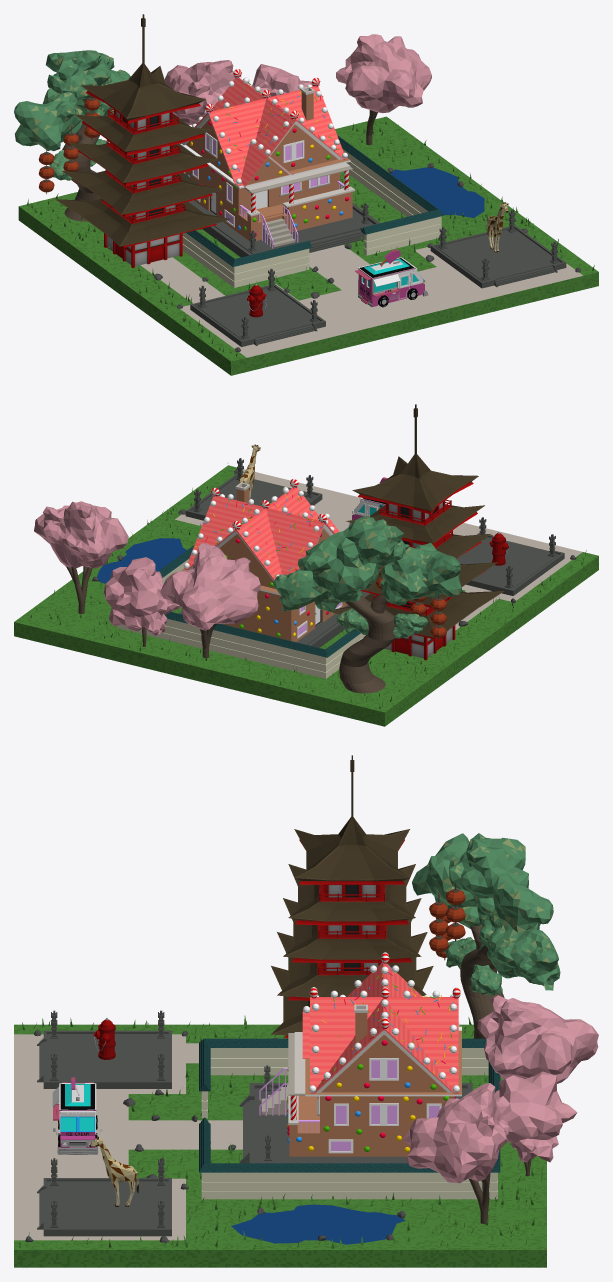
3 views of the same model, one above another, from view 1: azimuth 30°, elevation 25°; view 2: azimuth 150°, elevation 25°; view 3: azimuth 270°, elevation 25° (orthographic). The views are drawn at different scales.
Visible parts, largest first — view 1: Cube.005, Cube.1203, VEHICLES_ICE_CREAM_TRUCK, ANIMAL_JIRAFA; view 2: Cube.005, Cube.1203, VEHICLES_ICE_CREAM_TRUCK, OBJRANDOM_FIRE_HYDRANT; view 3: Cube.005, Cube.1203, VEHICLES_ICE_CREAM_TRUCK, ANIMAL_JIRAFA, OBJRANDOM_FIRE_HYDRANT.
Boxes of the visible parts, x1=… form: Cube.005: x1=14, y1=14, x2=598, y2=375; Cube.1203: x1=179, y1=69, x2=355, y2=248; VEHICLES_ICE_CREAM_TRUCK: x1=355, y1=249, x2=428, y2=307; ANIMAL_JIRAFA: x1=487, y1=202, x2=508, y2=252; Cube.005: x1=14, y1=404, x2=598, y2=726; Cube.1203: x1=181, y1=479, x2=347, y2=641; VEHICLES_ICE_CREAM_TRUCK: x1=348, y1=477, x2=387, y2=526; OBJRANDOM_FIRE_HYDRANT: x1=489, y1=532, x2=509, y2=565; Cube.005: x1=14, y1=755, x2=598, y2=1267; Cube.1203: x1=259, y1=952, x2=461, y2=1156; VEHICLES_ICE_CREAM_TRUCK: x1=52, y1=1077, x2=102, y2=1154; ANIMAL_JIRAFA: x1=89, y1=1136, x2=138, y2=1206; OBJRANDOM_FIRE_HYDRANT: x1=93, y1=1018, x2=115, y2=1059.
Size of the model in its own units: 4528 by 2668 by 4389.
59 materials, 6 textured.
